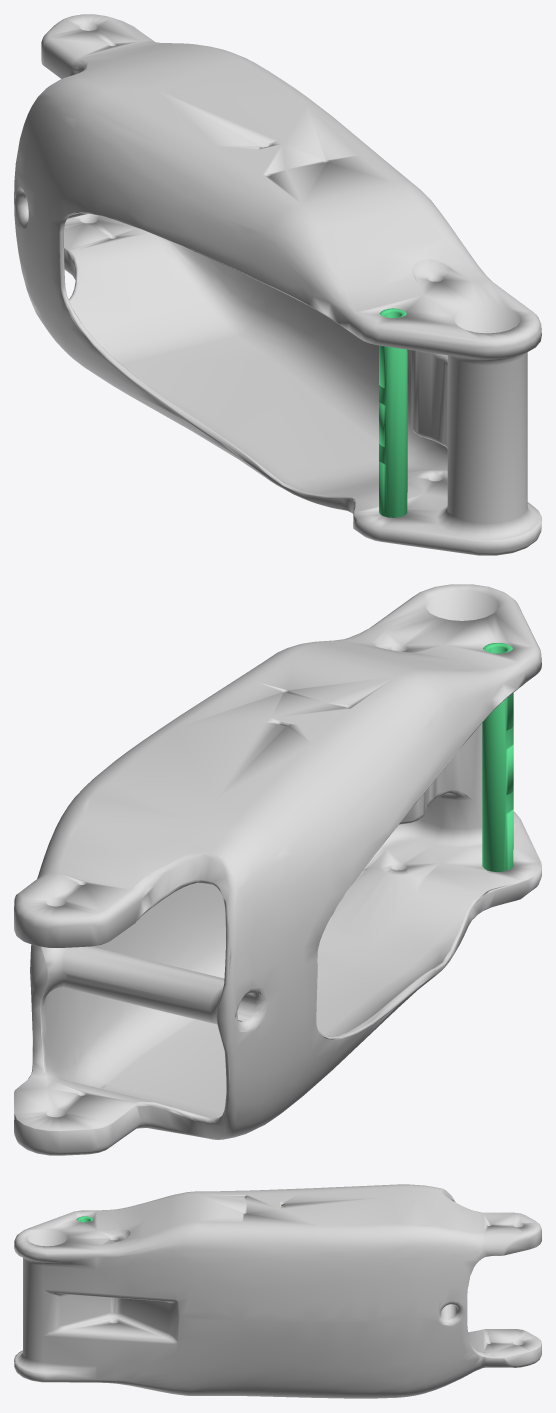
Rendered from right_shin.obj.
3 views of the same model, one above another, from view 1: azimuth 30°, elevation 25°; view 2: azimuth 150°, elevation 25°; view 3: azimuth 270°, elevation 25° (orthographic). The views are drawn at different scales.
Bounding box in the file's own units: 0.1413 × 0.162 × 0.4506.
